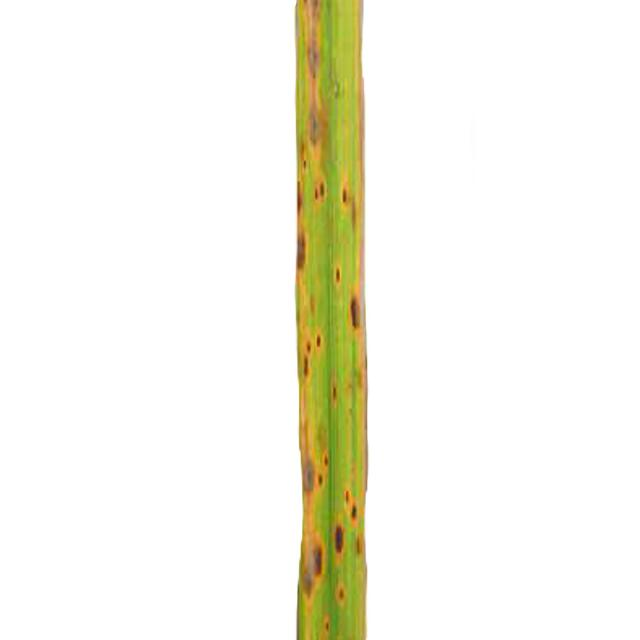Brown spot: (282, 0, 379, 638)
